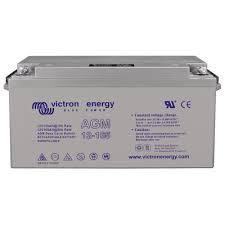battery: (0, 46, 225, 179)
